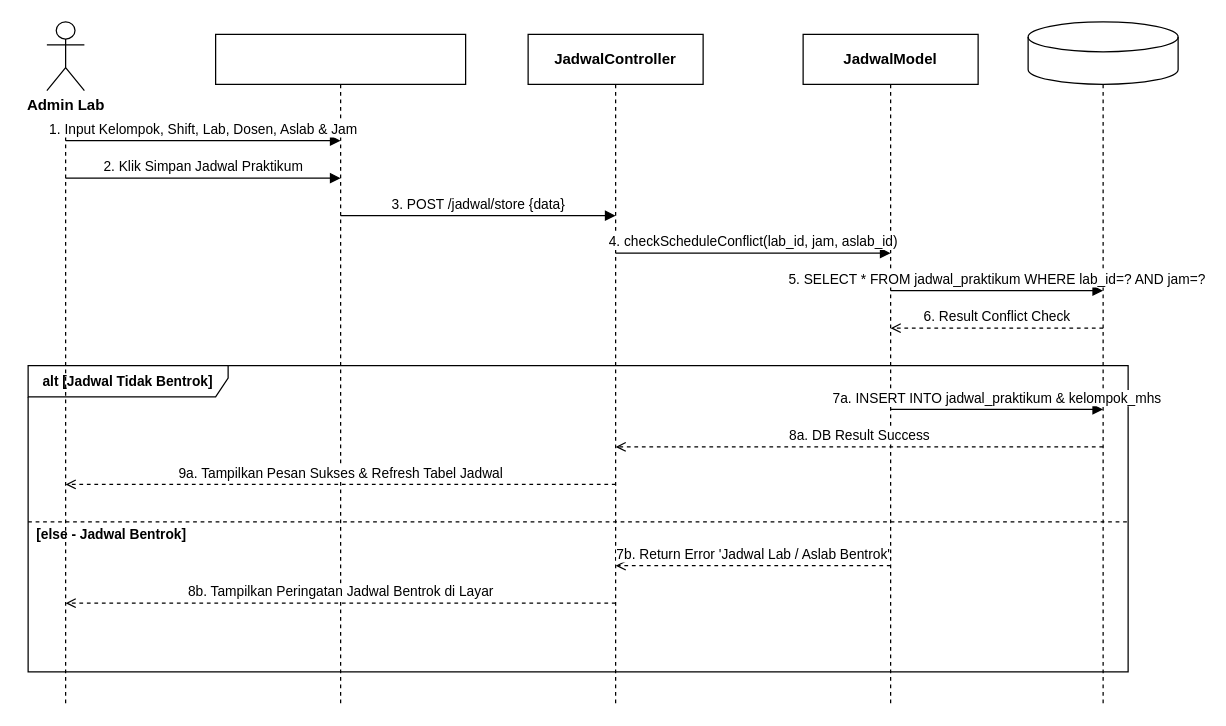
Image size: 1226x726. Some labels were removed from this diagram. The centre of each missing label's shape, as x and y in pixels:
Database MySQL: [1102,52]
View (jadwal_praktikum.php): [340,58]
